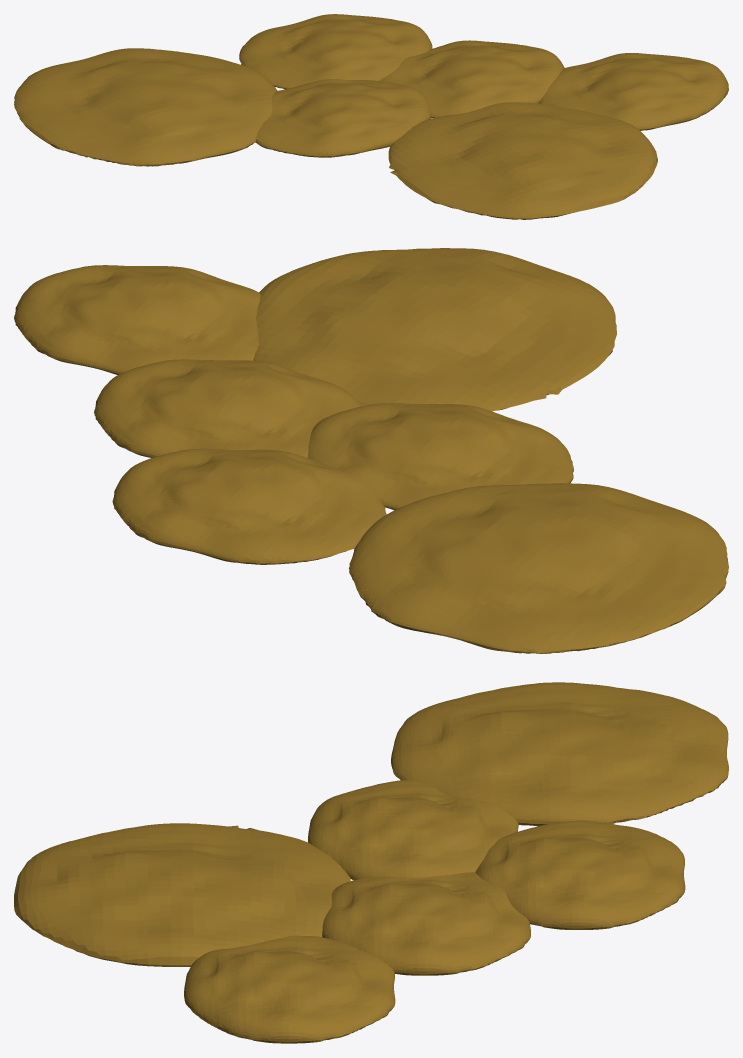
File: plains.glb
3 renders of one model, top to bottom at view 1: azimuth 30°, elevation 25°; view 2: azimuth 150°, elevation 25°; view 3: azimuth 270°, elevation 25°, orthographic. The views are drawn at different scales.
Visible parts, largest first — view 1: hemisphere, hemisphere3, hemisphere0, hemisphere4, hemisphere2, hemisphere1; view 2: hemisphere3, hemisphere, hemisphere2, hemisphere4, hemisphere1, hemisphere0; view 3: hemisphere3, hemisphere, hemisphere4, hemisphere2, hemisphere1, hemisphere0.
Boxes of the visible parts, x1,y1,x2,y2 form: hemisphere: (388,102,657,219); hemisphere3: (14,48,277,166); hemisphere0: (255,79,431,157); hemisphere4: (538,53,728,130); hemisphere2: (239,14,432,89); hemisphere1: (379,40,564,117); hemisphere3: (349,483,728,653); hemisphere: (253,248,616,411); hemisphere2: (112,448,386,564); hemisphere4: (14,265,260,374); hemisphere1: (94,359,361,457); hemisphere0: (307,403,573,509); hemisphere3: (391,682,728,826); hemisphere: (14,823,350,966); hemisphere4: (184,935,395,1043); hemisphere2: (475,820,685,929); hemisphere1: (322,872,530,975); hemisphere0: (308,780,518,879).
Bounding box in the file's own units: 7.99 × 0.2955 × 6.74.
